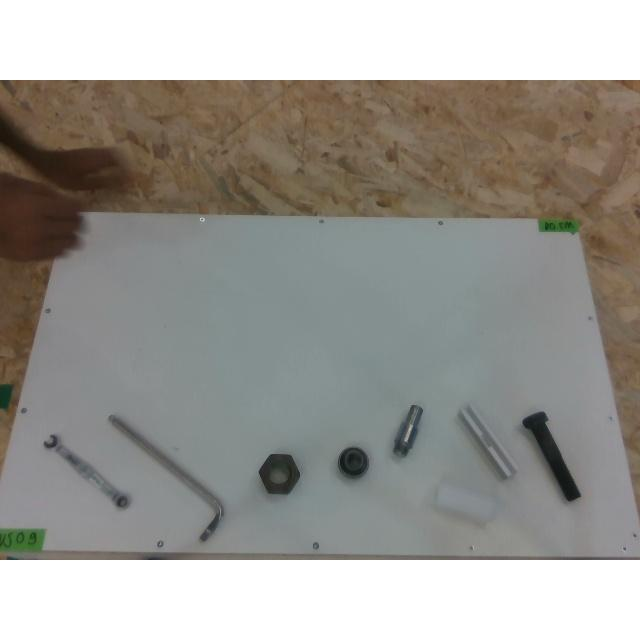AllenKey: (109, 415, 224, 541)
Axis2: (393, 404, 423, 456)
Bearing2: (337, 446, 369, 478)
F20_20_G: (458, 402, 518, 478)
M20_100: (522, 411, 580, 501)
M30: (260, 453, 300, 493)
Spacer: (435, 482, 503, 524)
Wrench: (42, 434, 130, 508)
